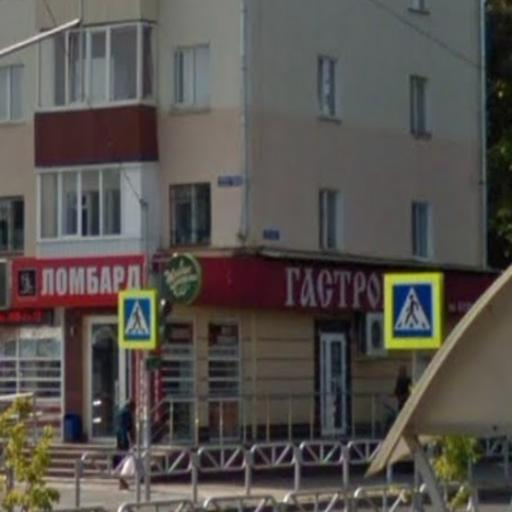traffic_sign: (382, 272, 447, 352), (116, 288, 160, 353)
